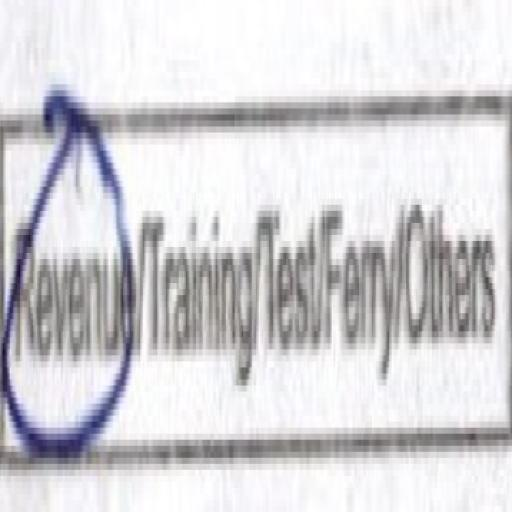check: (0, 30, 140, 506)
